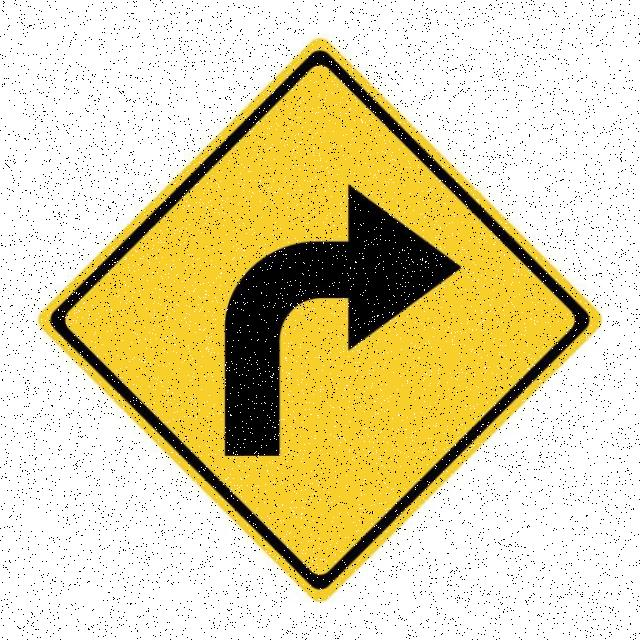Righthand_curve: (42, 32, 604, 604)
